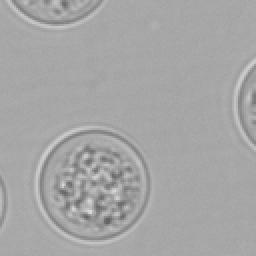picoshell: (34, 128, 150, 244), (4, 0, 106, 28), (232, 56, 254, 150), (0, 174, 6, 230)
